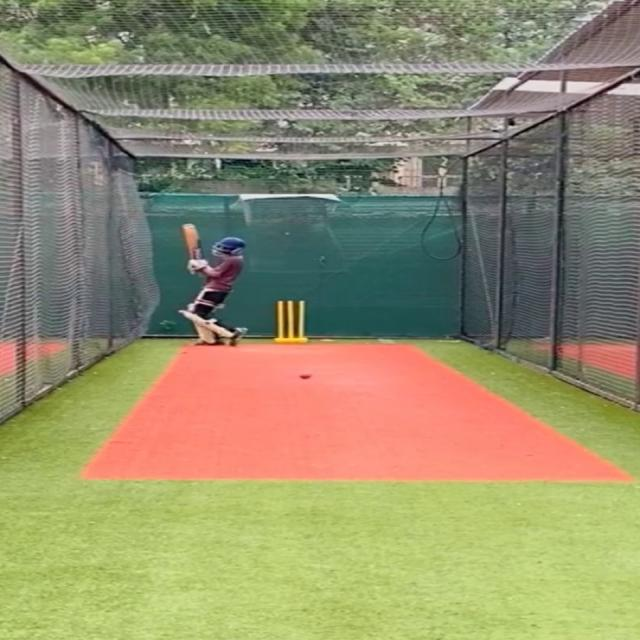ball: (299, 371, 313, 380)
stump: (275, 299, 310, 344)
